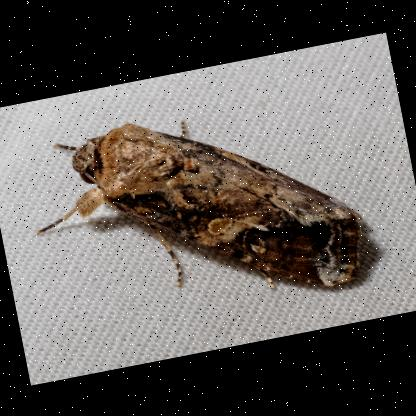Fall Armyworm Moth: (15, 78, 378, 342)
